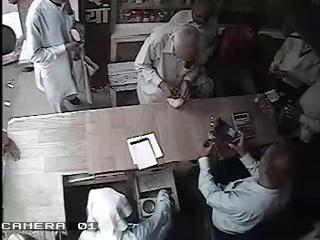Normal: (197, 114, 294, 240), (134, 0, 222, 108), (23, 0, 85, 114), (78, 186, 174, 240)
